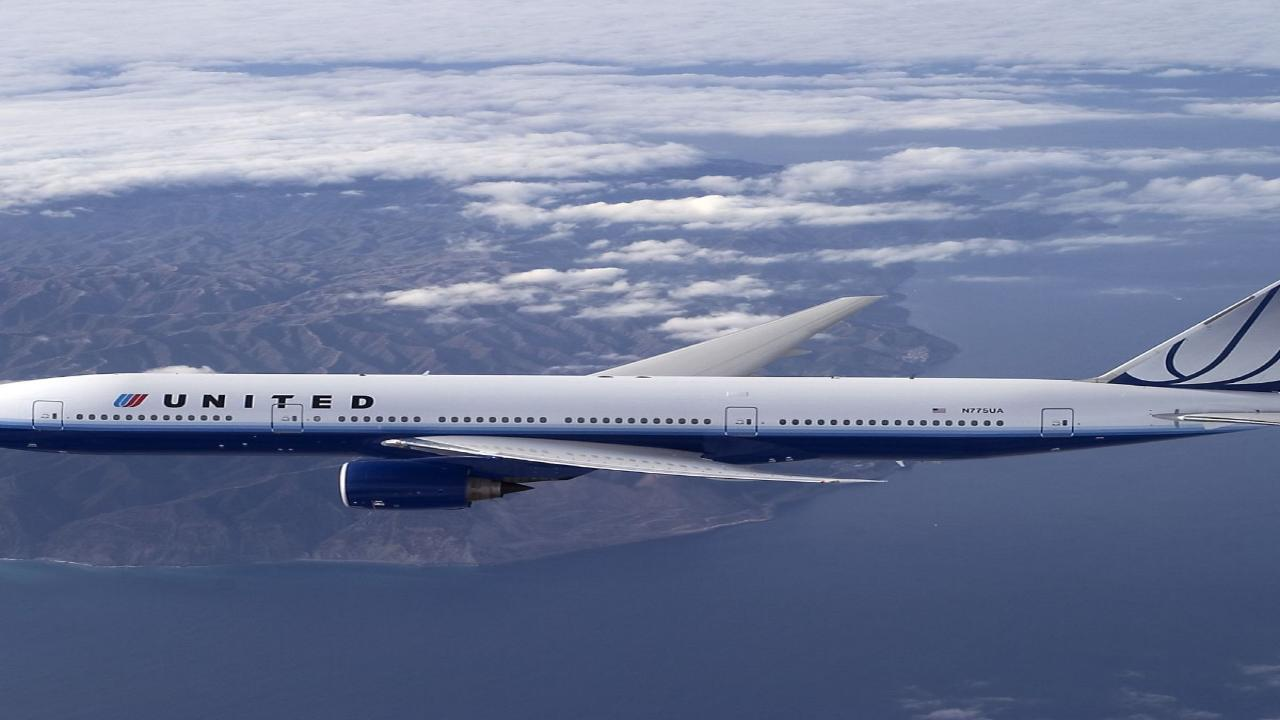Airplane: (0, 276, 1280, 532)
